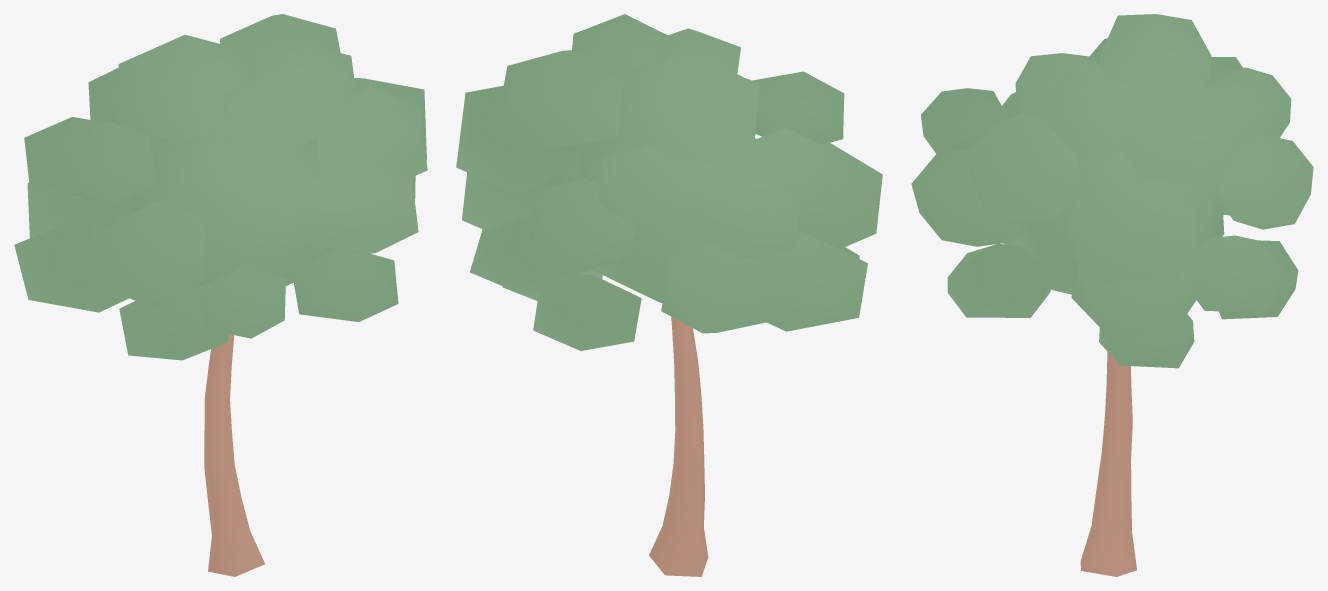
Rendered from Blender_Tanoak_2_Far.glb.
The picture shows the model from 3 angles, left to right: view 1: azimuth 30°, elevation 25°; view 2: azimuth 150°, elevation 25°; view 3: azimuth 270°, elevation 25°; orthographic projection. The views are drawn at different scales.
Visible parts, largest first — view 1: Blender_Tanoak_2_Far; view 2: Blender_Tanoak_2_Far; view 3: Blender_Tanoak_2_Far.
Part boxes in pixels (bbox=[...]): Blender_Tanoak_2_Far: bbox=[14, 14, 427, 576]; Blender_Tanoak_2_Far: bbox=[456, 14, 882, 576]; Blender_Tanoak_2_Far: bbox=[911, 14, 1313, 576].
Size of the model in its own units: 13.06 by 16.76 by 11.22.
